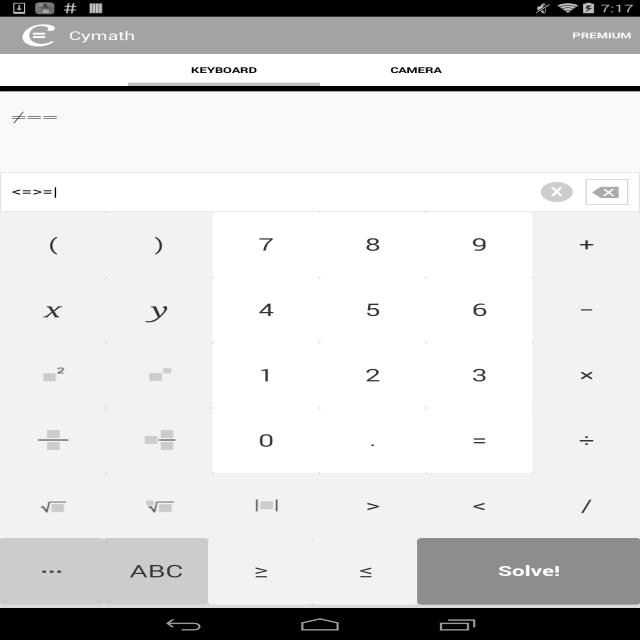Button: (240, 541, 400, 575), (587, 98, 629, 125)
ImageView: (437, 266, 587, 292), (14, 19, 64, 52)
TextView: (563, 16, 640, 54), (69, 27, 135, 43), (191, 64, 257, 76), (391, 64, 442, 76)
